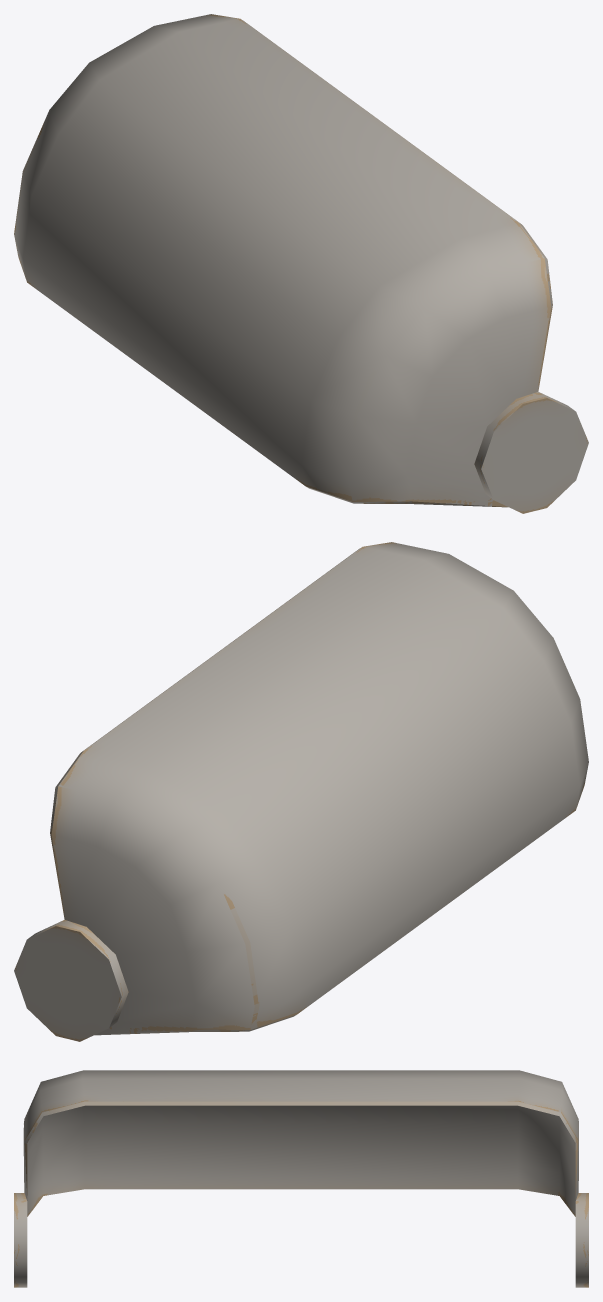
The model's file is Breadbasket01_Door01.FBX.
The picture shows the model from 3 angles, top to bottom: view 1: azimuth 30°, elevation 25°; view 2: azimuth 150°, elevation 25°; view 3: azimuth 270°, elevation 25°; orthographic projection. The views are drawn at different scales.
Visible parts, largest first — view 1: Breadbasket01_Door01_LOD0; view 2: Breadbasket01_Door01_LOD0; view 3: Breadbasket01_Door01_LOD0.
Boxes of the visible parts, <box> form: Breadbasket01_Door01_LOD0: <box>14,14,588,513</box>; Breadbasket01_Door01_LOD0: <box>14,542,588,1041</box>; Breadbasket01_Door01_LOD0: <box>14,1070,588,1287</box>.
Size of the model in its own units: 15.31 by 40.55 by 15.
